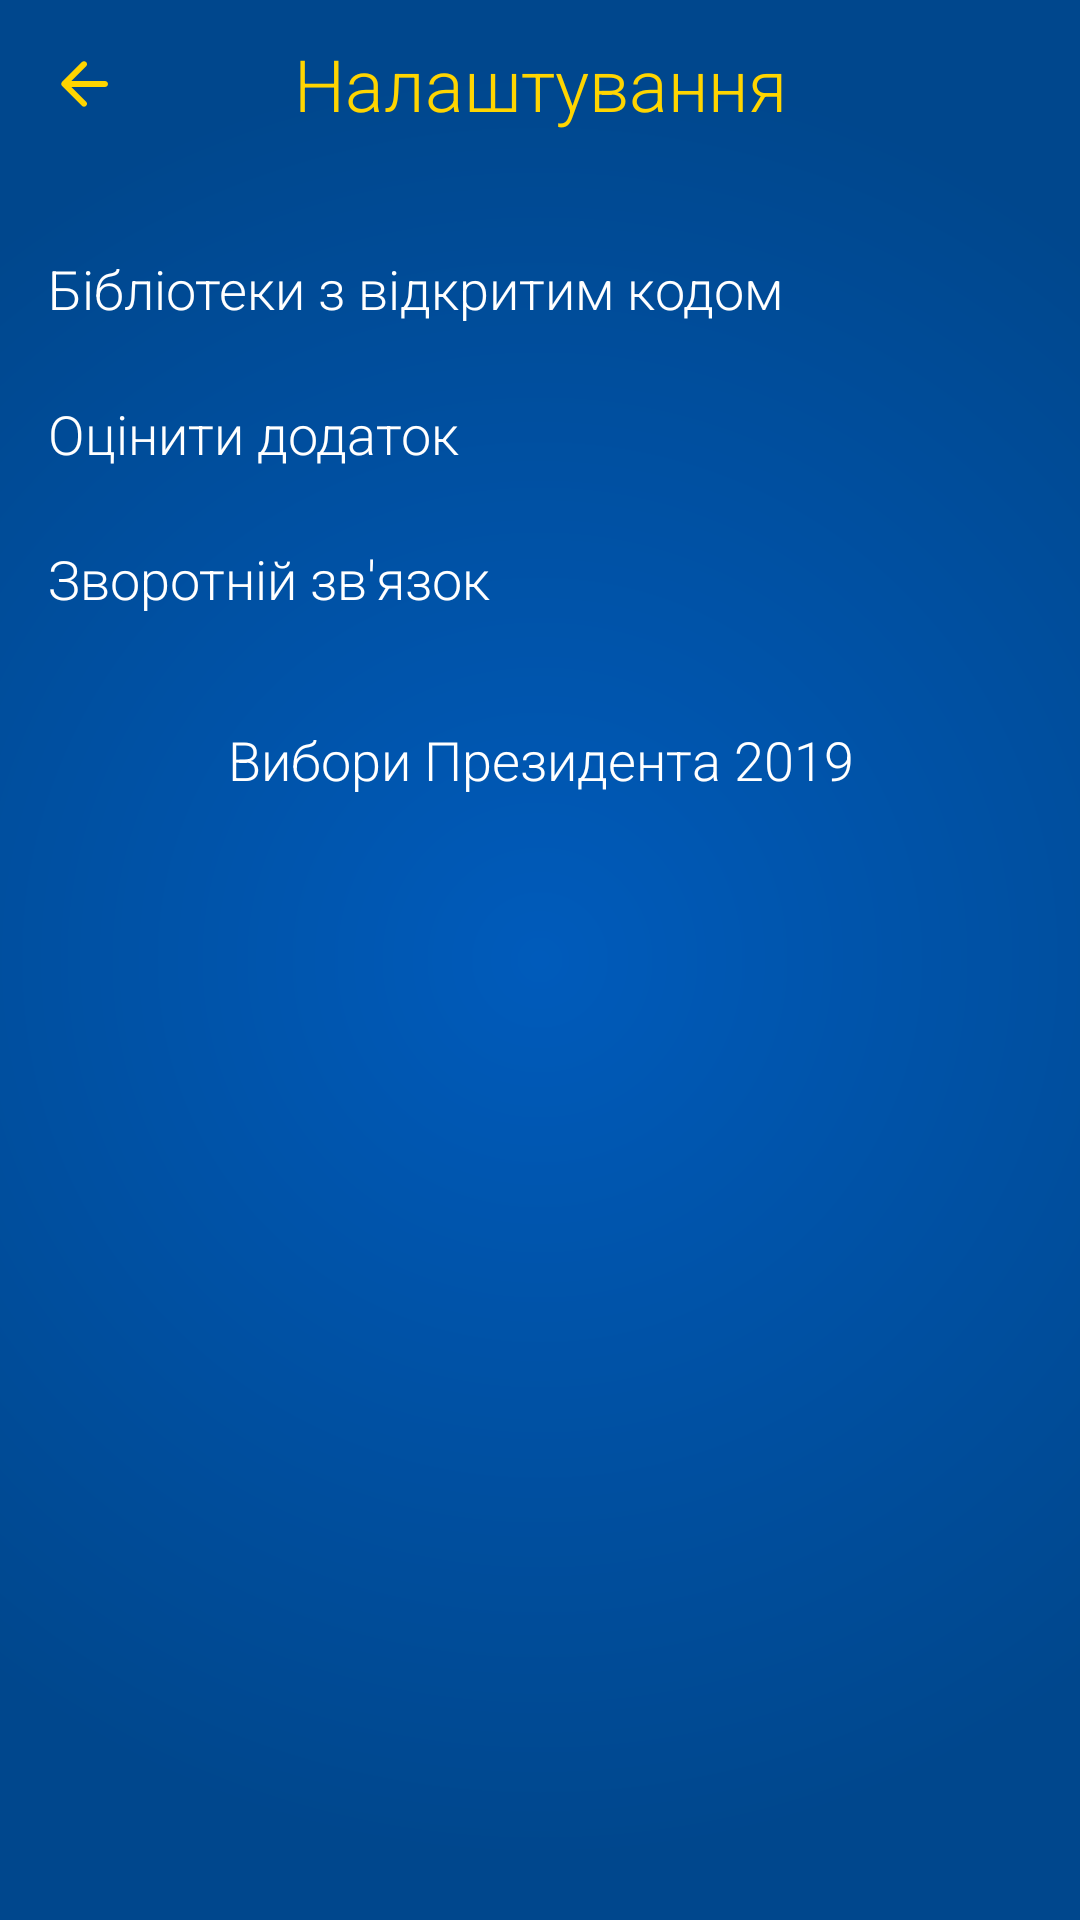

Icon bounding boxes for this 1080x1920 phone screenshot, format {"left": x1, "top": y1, "right": x2, "bottom": y2}:
arrow back: {"left": 61, "top": 61, "right": 108, "bottom": 107}
